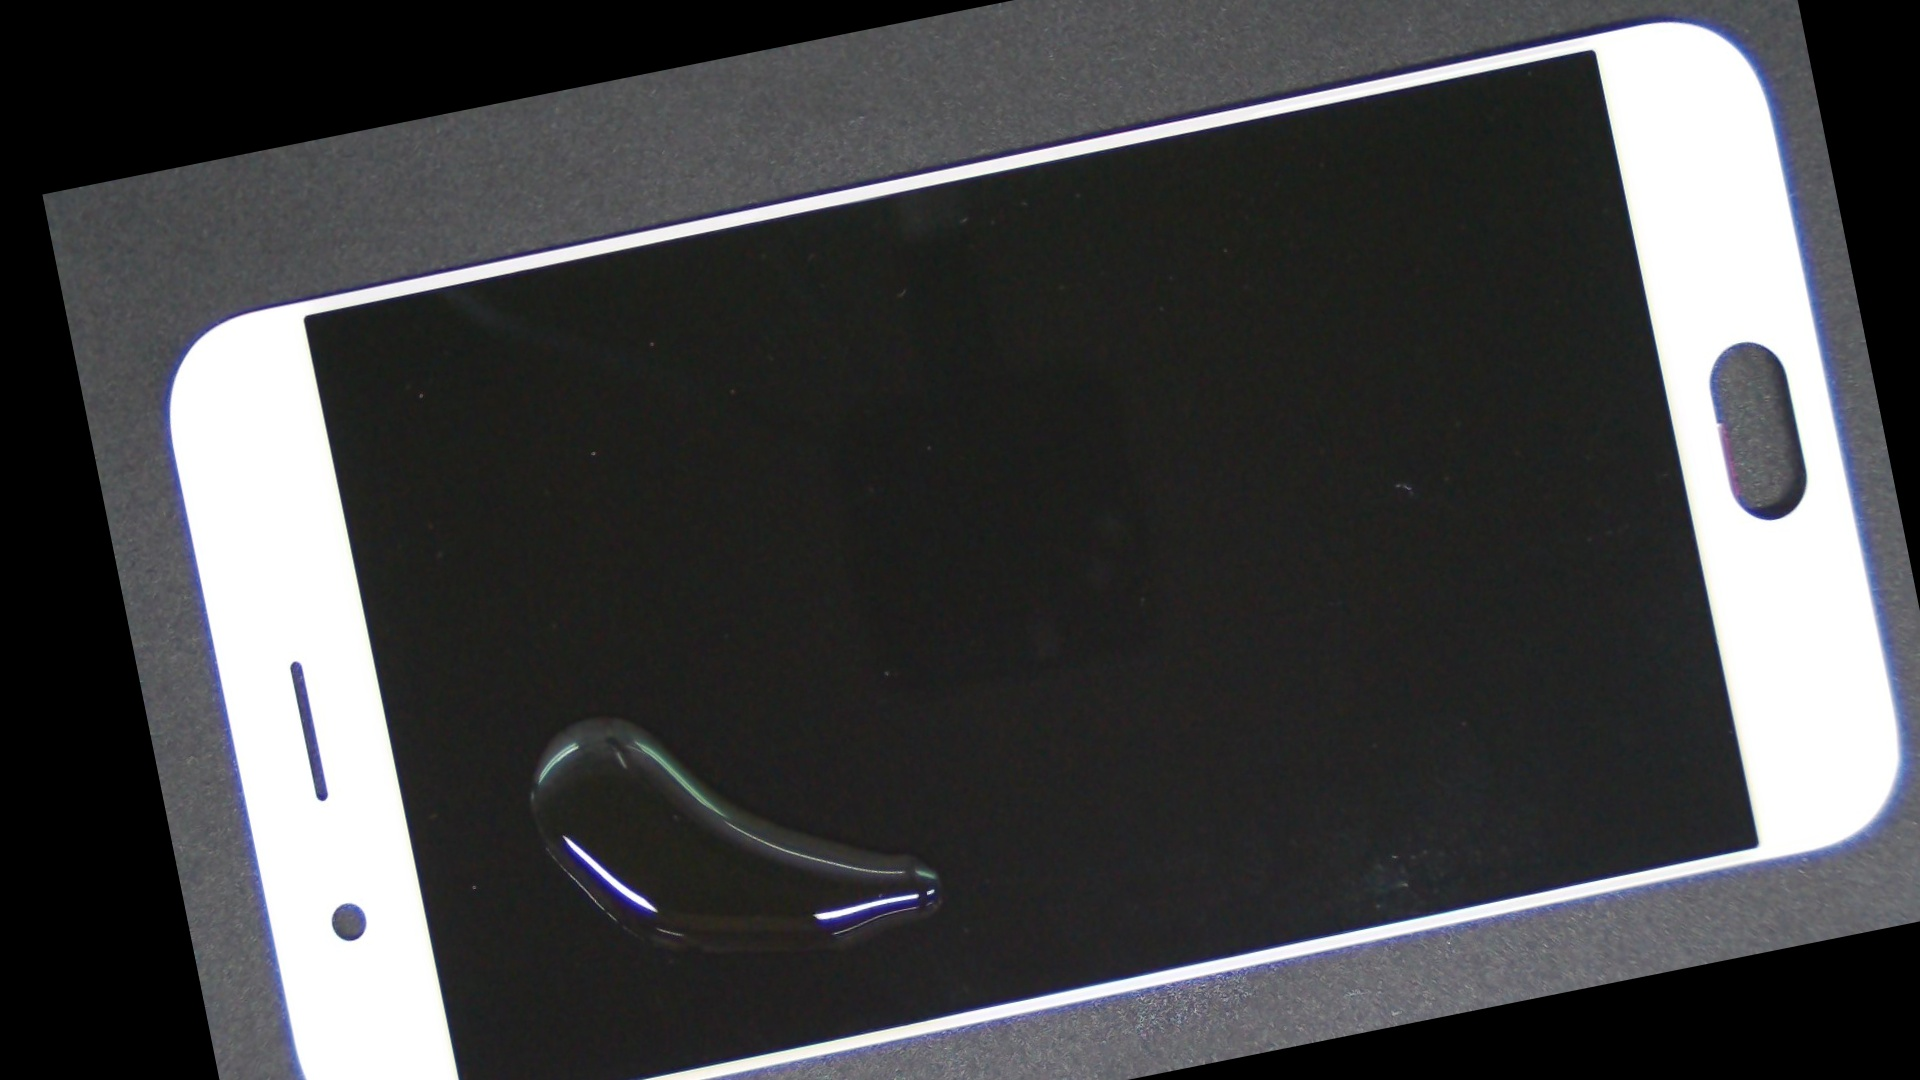oil: (316, 371, 862, 1065)
